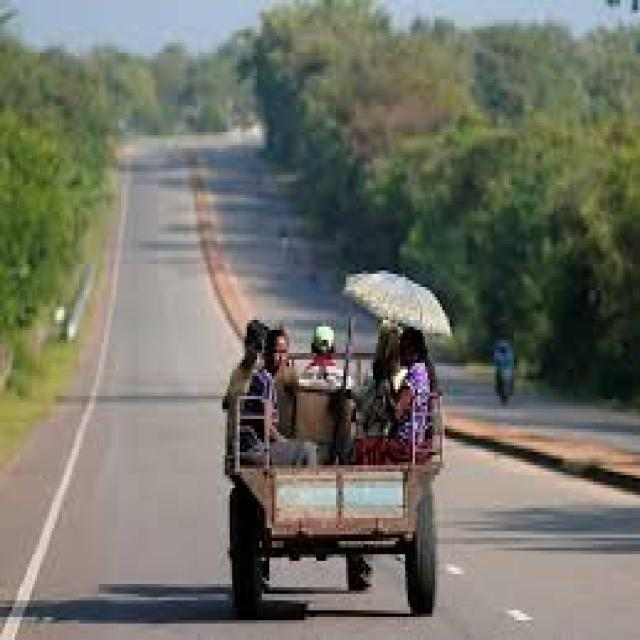motorcycle: (497, 366, 512, 406)
person: (356, 327, 435, 462), (240, 330, 314, 465), (358, 320, 400, 435), (222, 323, 267, 406), (304, 323, 339, 386), (494, 340, 512, 369)
tractor: (225, 369, 440, 617)
